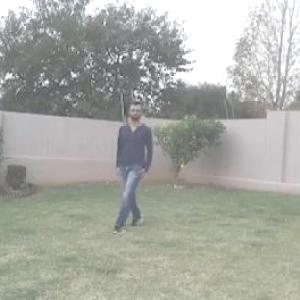follow: (115, 104, 151, 226)
